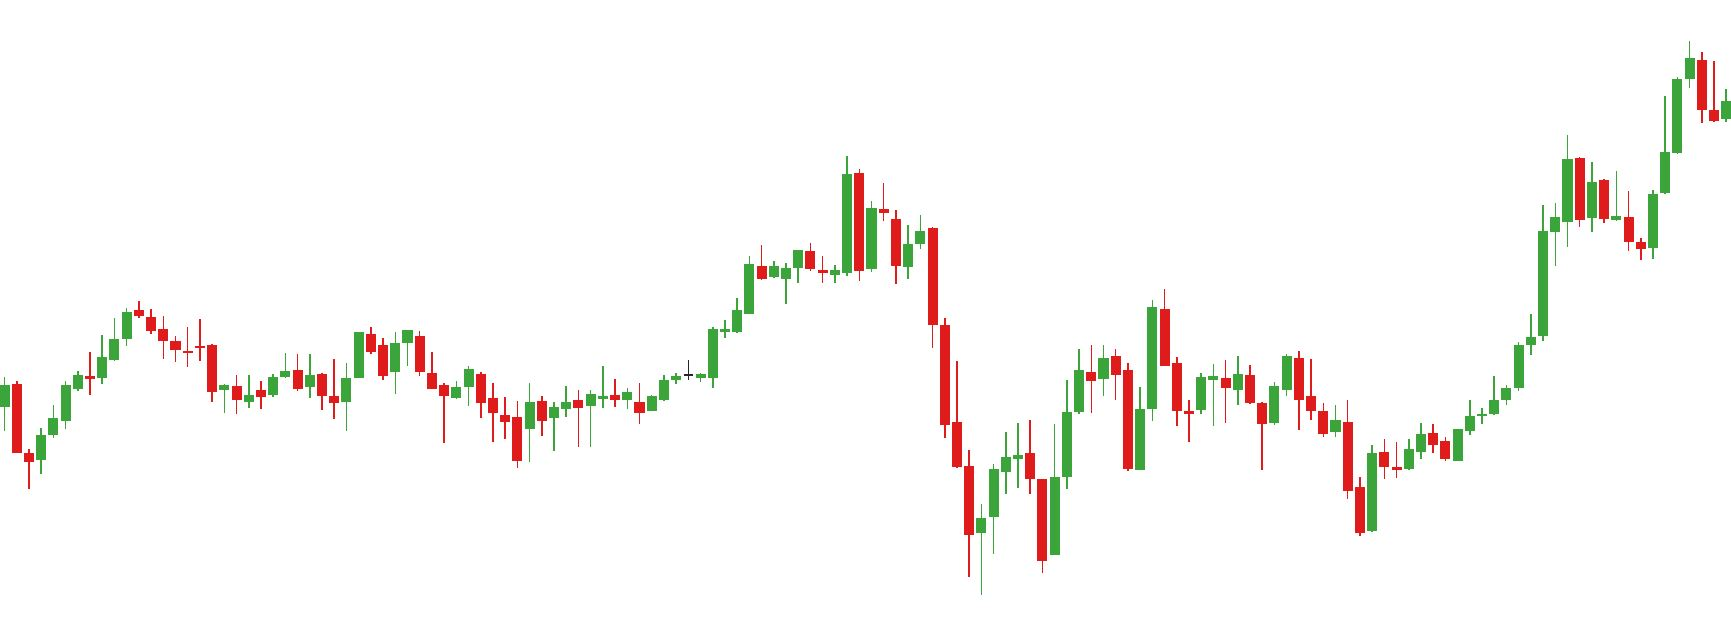buy: (440, 382, 538, 470)
